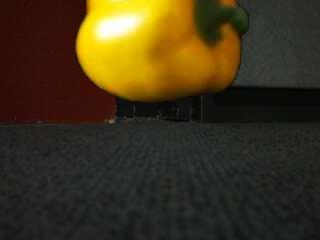Capsicum: (76, 0, 250, 103)
